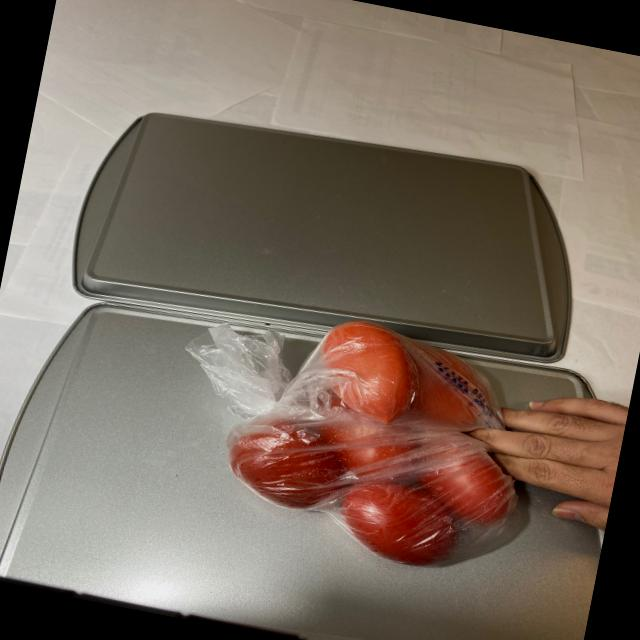tomato: (192, 296, 540, 580)
